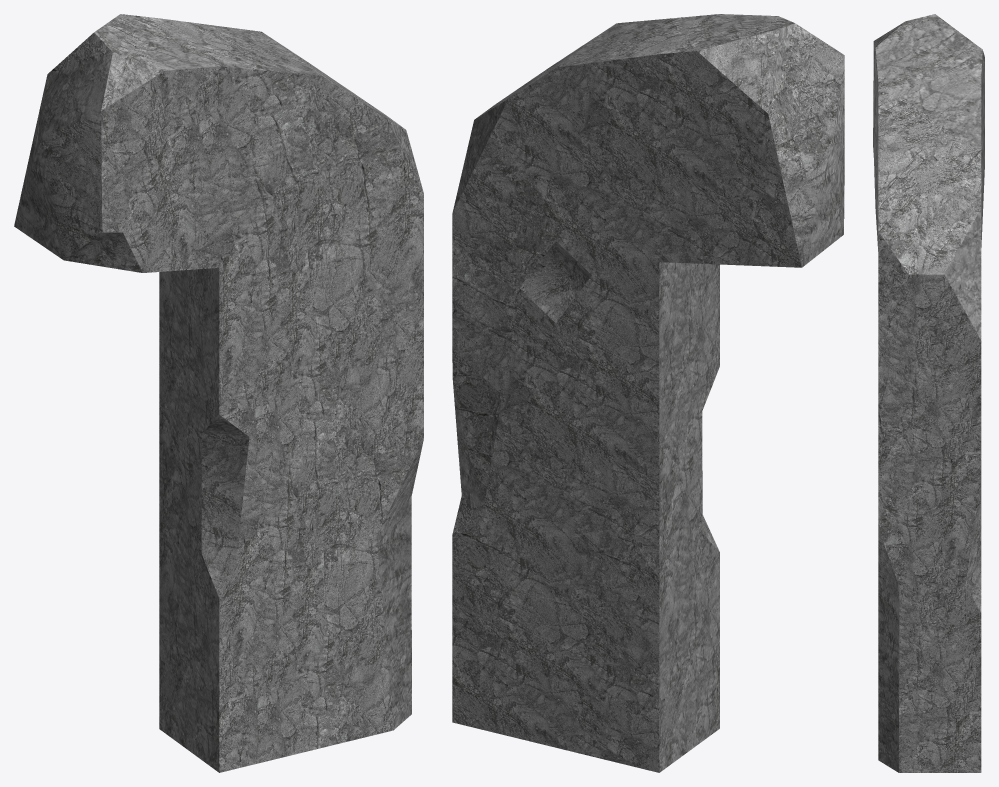
The model's file is materials_3_wall_4.fbx.
3 views of the same model, side by side, from view 1: azimuth 30°, elevation 25°; view 2: azimuth 150°, elevation 25°; view 3: azimuth 270°, elevation 25° (orthographic). The views are drawn at different scales.
Visible parts, largest first — view 1: materials_3_wall_4; view 2: materials_3_wall_4; view 3: materials_3_wall_4.
Boxes of the visible parts, x1=… form: materials_3_wall_4: x1=14, y1=14, x2=423, y2=772; materials_3_wall_4: x1=452, y1=14, x2=844, y2=772; materials_3_wall_4: x1=873, y1=14, x2=984, y2=772.
Size of the model in its own units: 150 by 302 by 48.31.
